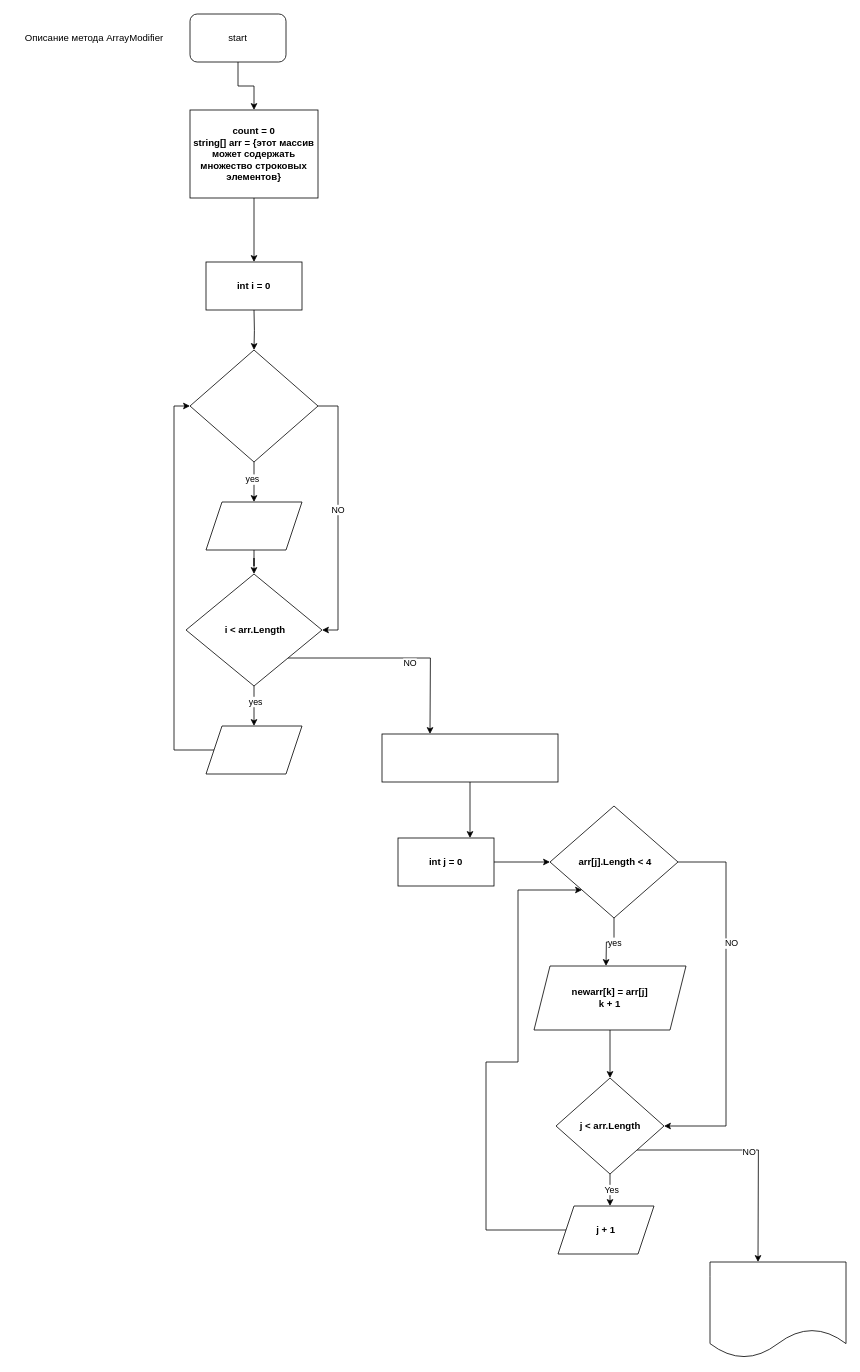
This 860x1372 diagram has some shape labels left out. The centre of each missing label's shape, as x and y in pixels:
"arr[i].Length < 4" goes at point (253, 405).
"count + 1" goes at point (253, 525).
"i + 1" goes at point (253, 749).
"printarray(NewArr) return NewArr" goes at point (777, 1309).
"String[] newarr = new string[count] int k = 0" goes at point (469, 757).
